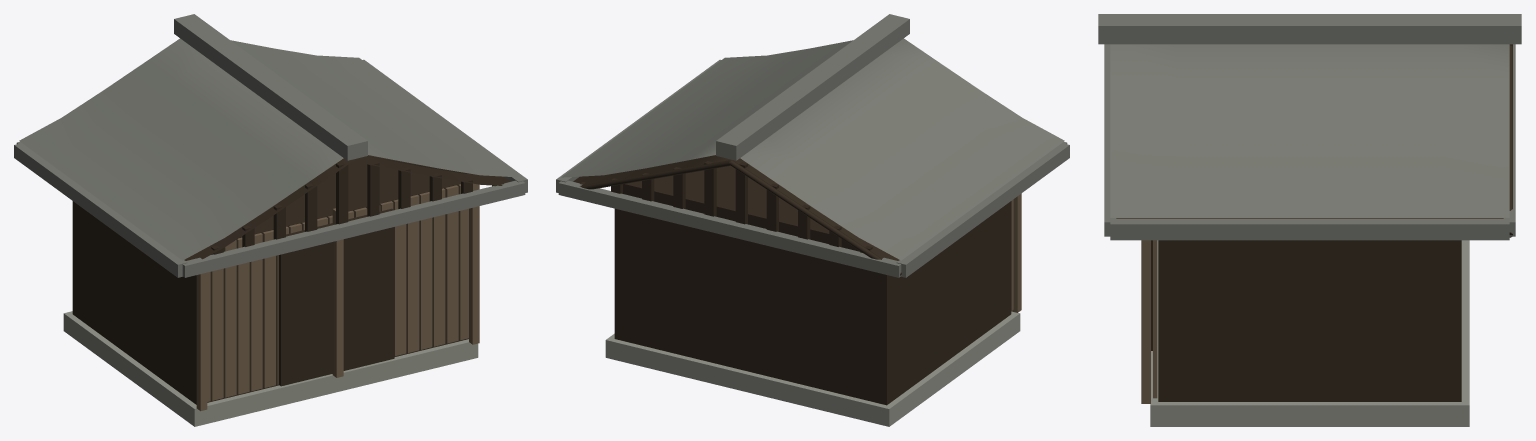
The model's file is shed-low.glb.
The picture shows the model from 3 angles, left to right: view 1: azimuth 30°, elevation 25°; view 2: azimuth 150°, elevation 25°; view 3: azimuth 270°, elevation 25°; orthographic projection. The views are drawn at different scales.
Visible parts, largest first — view 1: metal, darkwood, wood, stone; view 2: metal, darkwood, stone, wood; view 3: metal, darkwood, stone, wood.
Part boxes in pixels (x1=…): metal: x1=14, y1=14, x2=527, y2=277; darkwood: x1=72, y1=155, x2=510, y2=404; wood: x1=196, y1=183, x2=479, y2=411; stone: x1=63, y1=311, x2=478, y2=426; metal: x1=556, y1=14, x2=1069, y2=277; darkwood: x1=573, y1=155, x2=1011, y2=405; stone: x1=605, y1=311, x2=1020, y2=426; wood: x1=1011, y1=193, x2=1021, y2=312; metal: x1=1098, y1=14, x2=1521, y2=240; darkwood: x1=1116, y1=44, x2=1512, y2=401; stone: x1=1150, y1=240, x2=1469, y2=426; wood: x1=1141, y1=240, x2=1157, y2=403.
Size of the model in its own units: 6.17 by 4.45 by 5.3.
